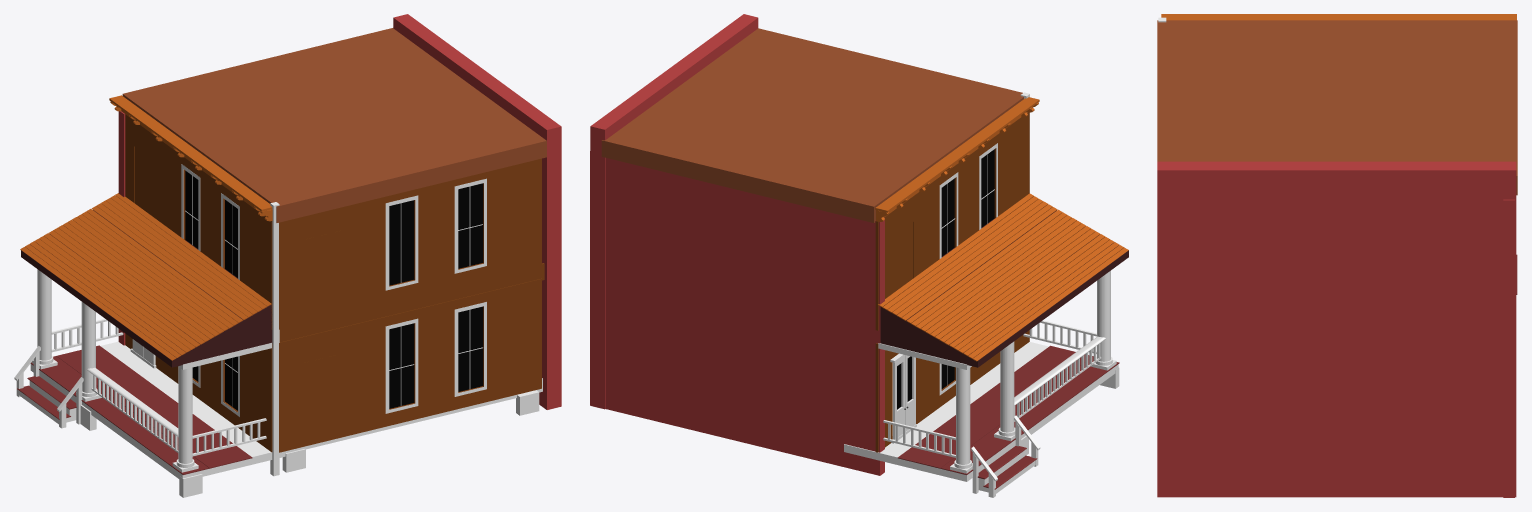
File: house2.obj
3 renders of one model, left to right at view 1: azimuth 30°, elevation 25°; view 2: azimuth 150°, elevation 25°; view 3: azimuth 270°, elevation 25°, orthographic. The views are drawn at different scales.
Visible parts, largest first — view 1: Obj_000001_Obj_000001.001; view 2: Obj_000001_Obj_000001.001; view 3: Obj_000001_Obj_000001.001.
Boxes of the visible parts, box(x1,y1,x2,y2) form: Obj_000001_Obj_000001.001: box(14, 14, 561, 497); Obj_000001_Obj_000001.001: box(590, 14, 1128, 497); Obj_000001_Obj_000001.001: box(1157, 14, 1517, 497).
Size of the model in its own units: 2.12 by 1.42 by 1.42.
